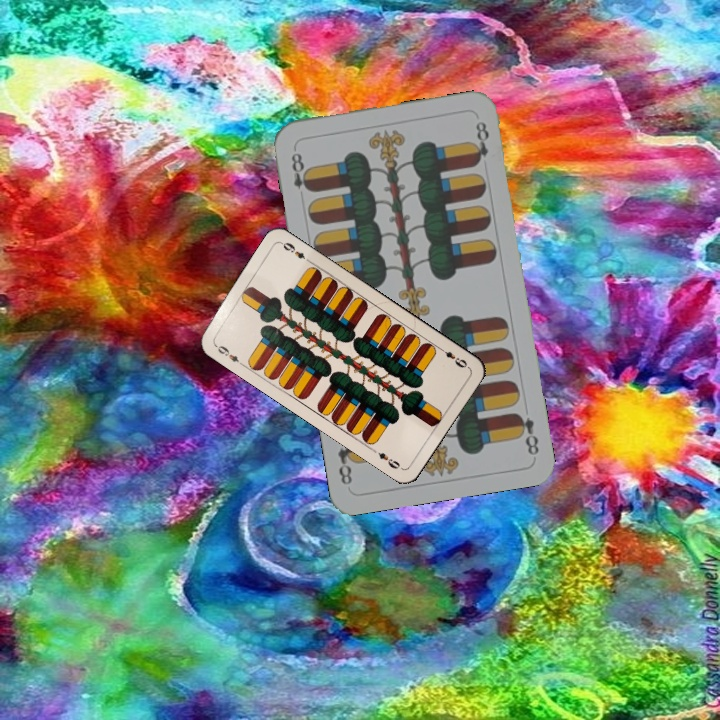E8: (511, 408, 542, 458), (287, 144, 314, 195)
E9: (210, 340, 246, 368), (435, 343, 470, 370)
